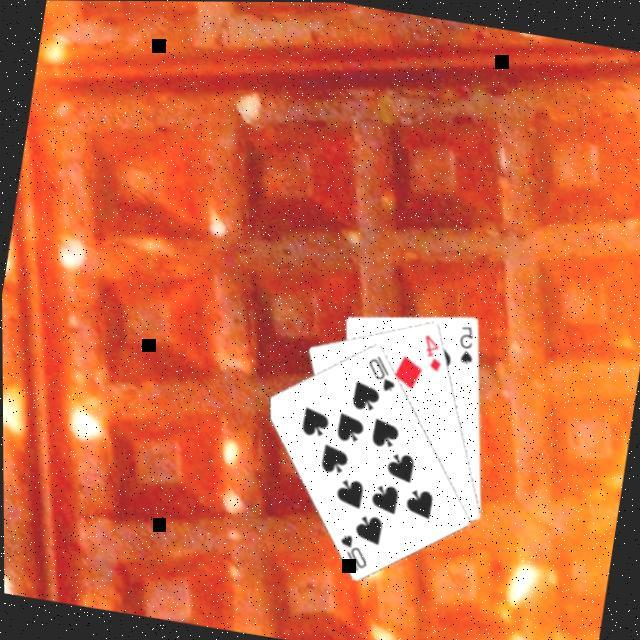10S: (362, 350, 404, 395), (334, 530, 376, 575)
4D: (418, 332, 450, 376)
5S: (454, 322, 482, 368)
